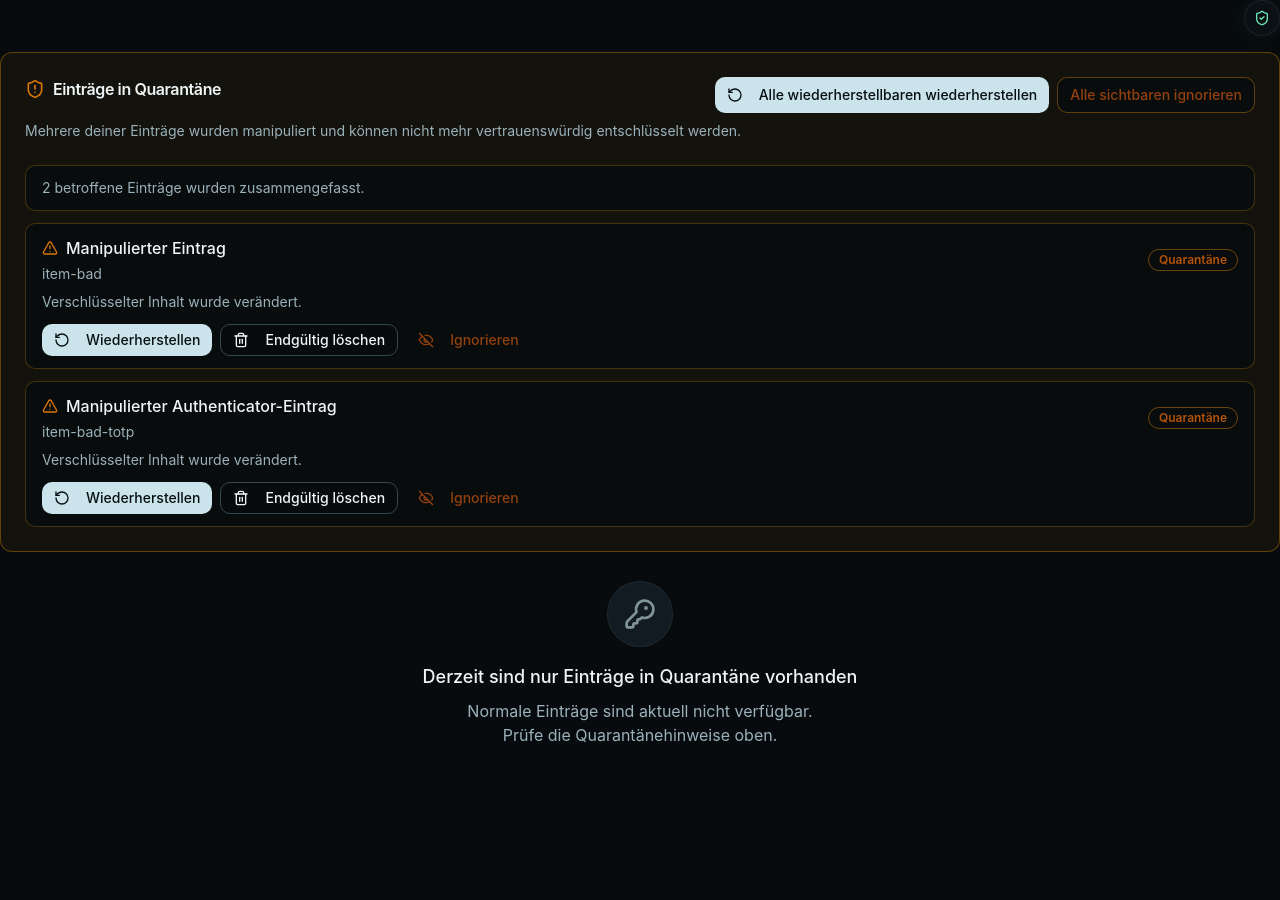
Test: VaultItemList › confirms and restores all visible restorable quarantine entries one by one
The image size is (1280, 900).
Click the button "Alle wiederherstellbaren wiederherstellen". click: [882, 95]
box: x1=715 y1=77 x2=1049 y2=113
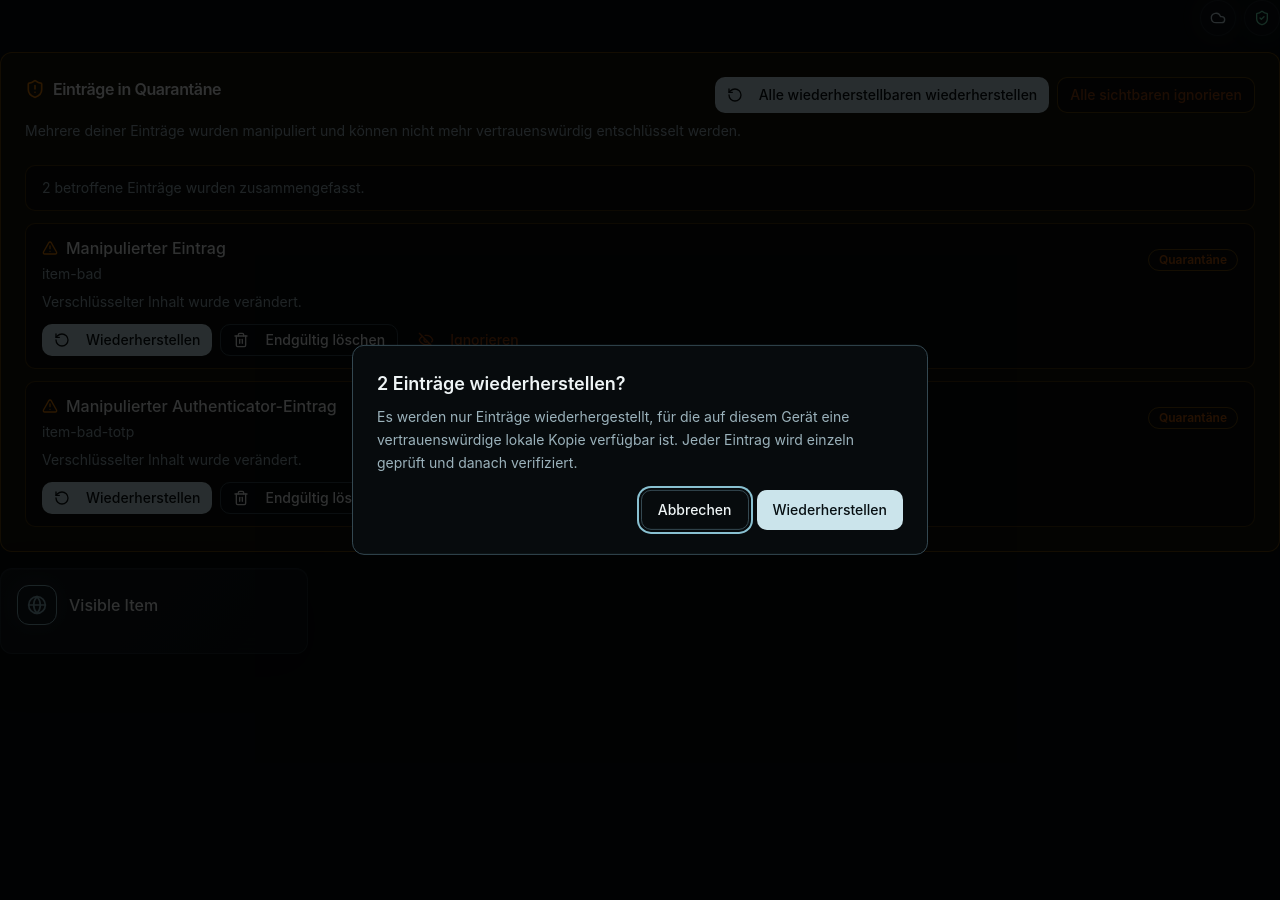
Click the button "Wiederherstellen". click: [830, 510]
box: x1=756 y1=490 x2=903 y2=530
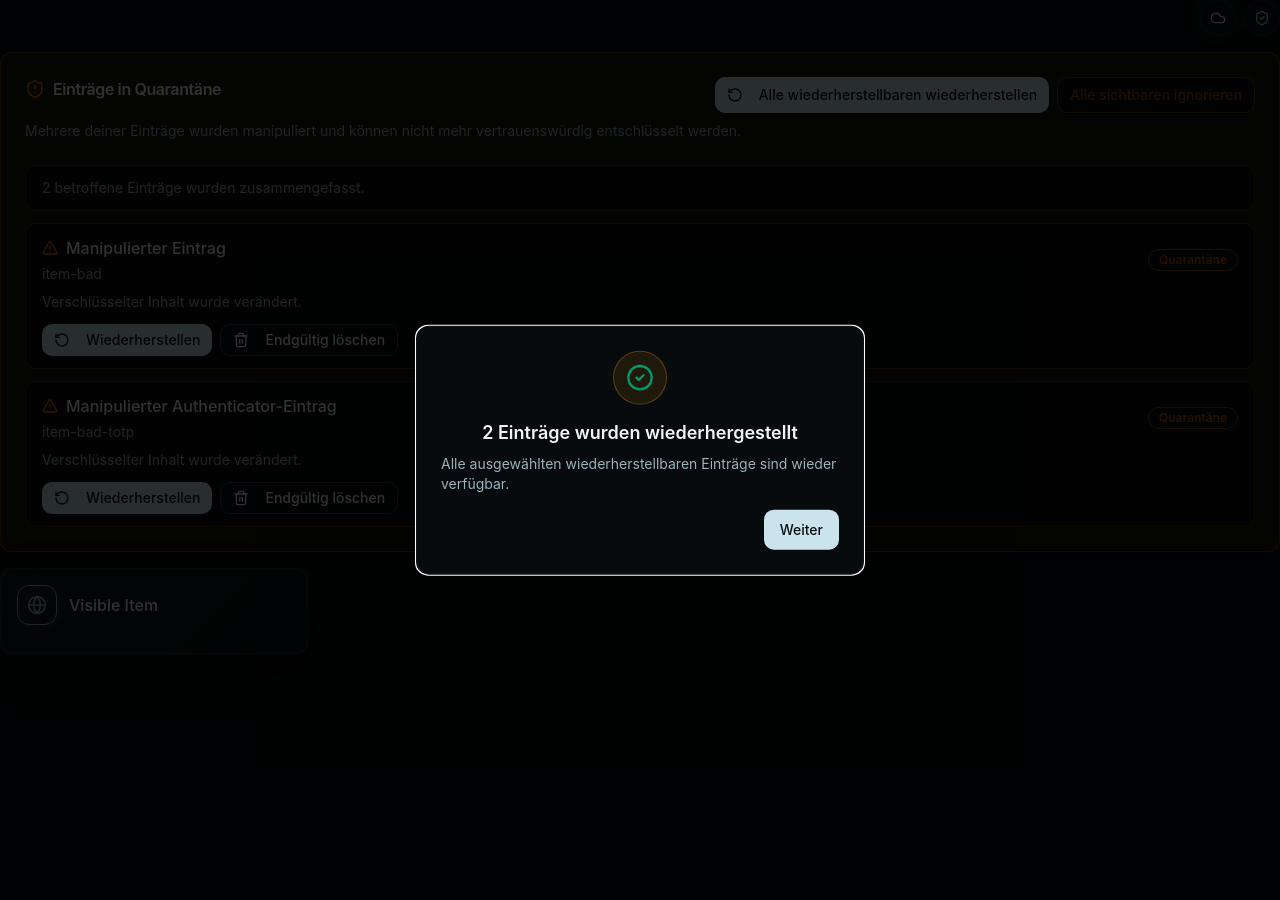
Check: the heading "2 Einträge wurden wiederhergestellt" is shown, box x1=482 y1=421 x2=798 y2=445
